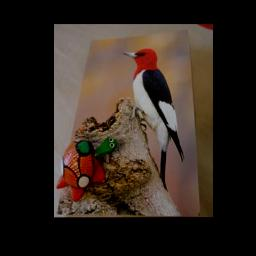Woodpecker: (124, 46, 185, 191)
